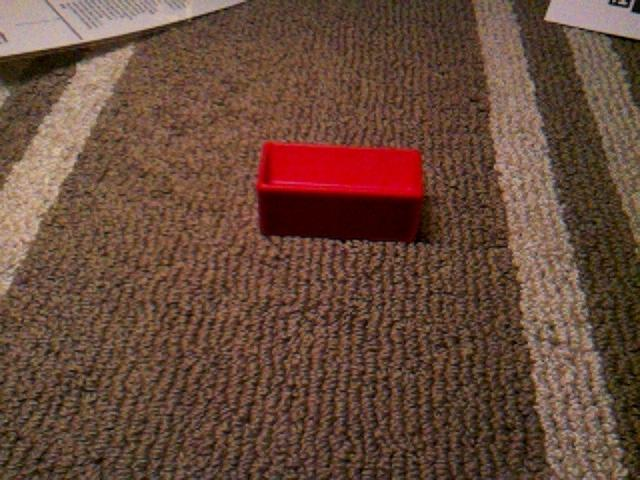red: (255, 139, 426, 244)
